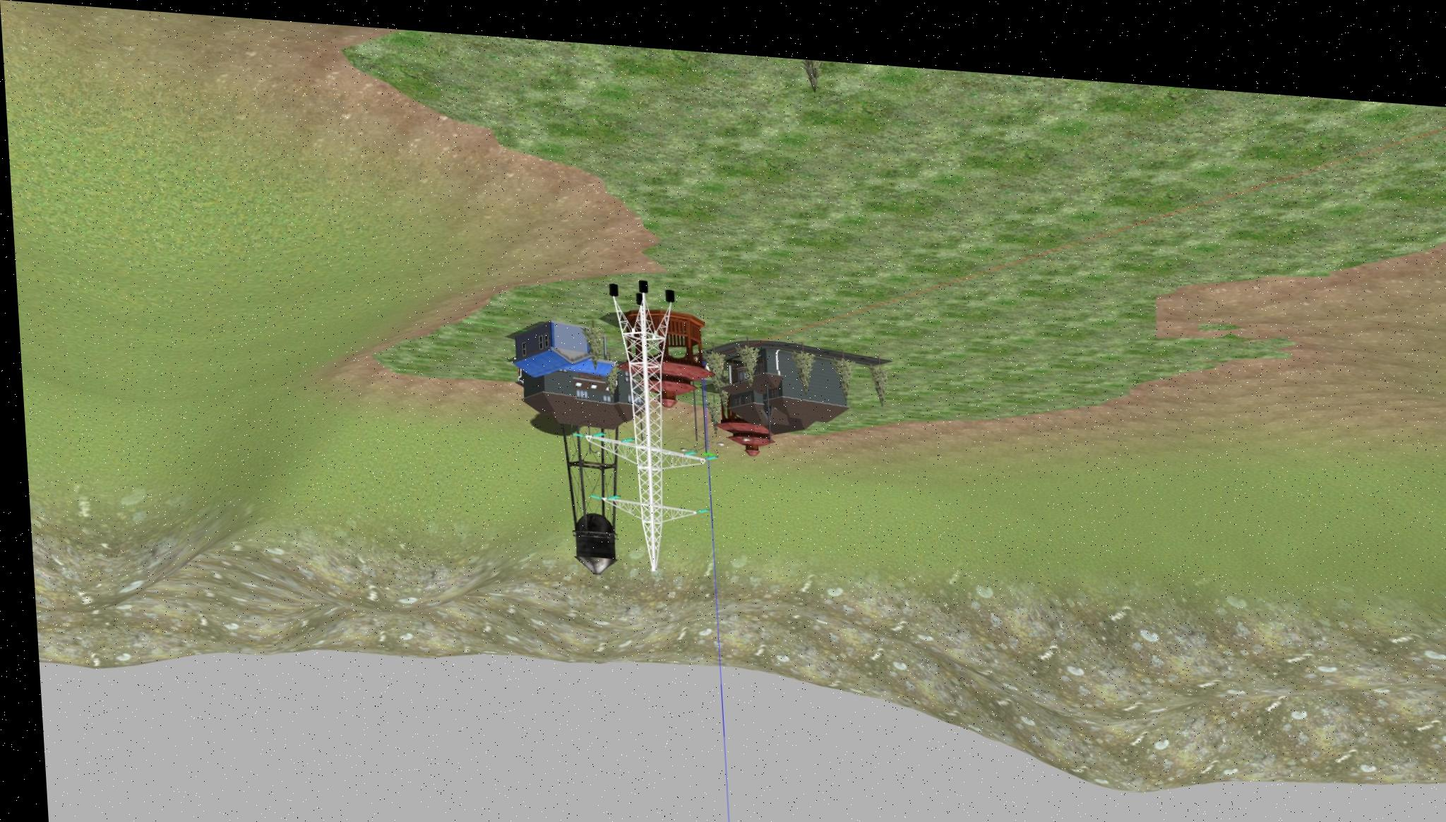tower: (578, 294, 712, 575)
